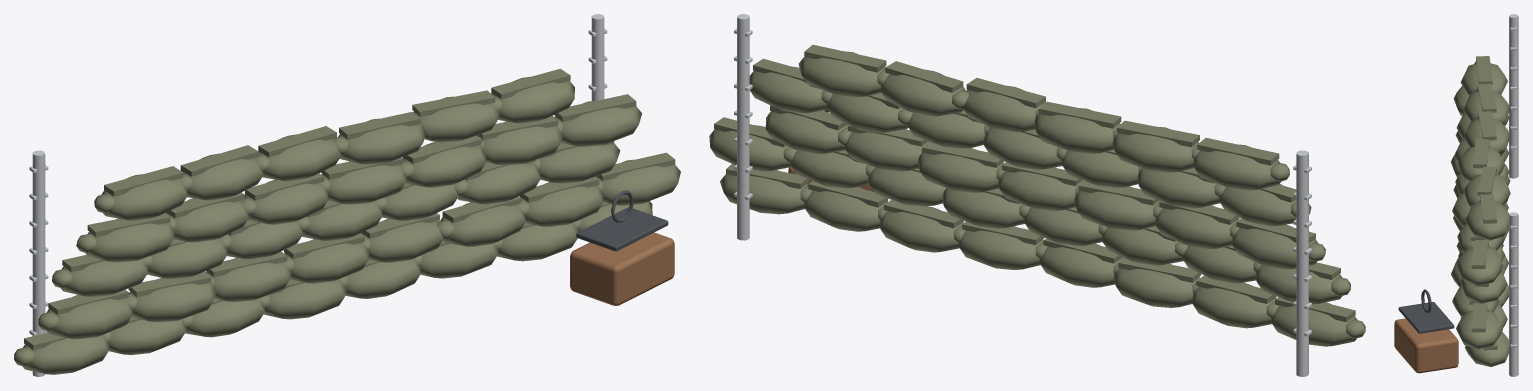
Rendered from sandbag-wall.glb.
3 views of the same model, side by side, from view 1: azimuth 30°, elevation 25°; view 2: azimuth 150°, elevation 25°; view 3: azimuth 270°, elevation 25° (orthographic). The views are drawn at different scales.
Parts seen in each view (by area): view 1: sandbag-wall; view 2: sandbag-wall; view 3: sandbag-wall.
Boxes of the visible parts, left/top/right/bottom form: sandbag-wall: left=14, top=14, right=680, bottom=376; sandbag-wall: left=709, top=14, right=1365, bottom=376; sandbag-wall: left=1394, top=14, right=1518, bottom=376.
Bounding box in the file's own units: 4.07 × 1.3 × 0.9099.
